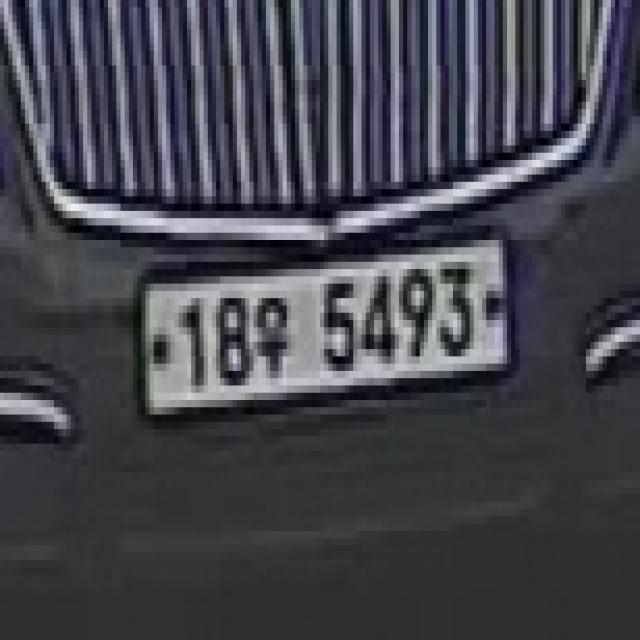1: (175, 284, 208, 400)
3: (432, 254, 482, 364)
4: (362, 269, 399, 371)
5: (316, 269, 361, 378)
8: (212, 291, 253, 400)
9: (395, 254, 436, 364)
license_plate: (133, 226, 519, 437)
u: (254, 291, 295, 378)
